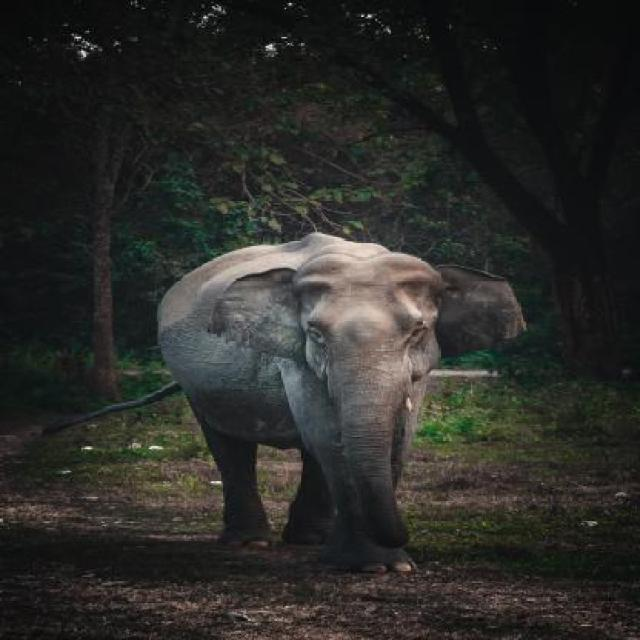Elephant: (56, 230, 553, 585)
